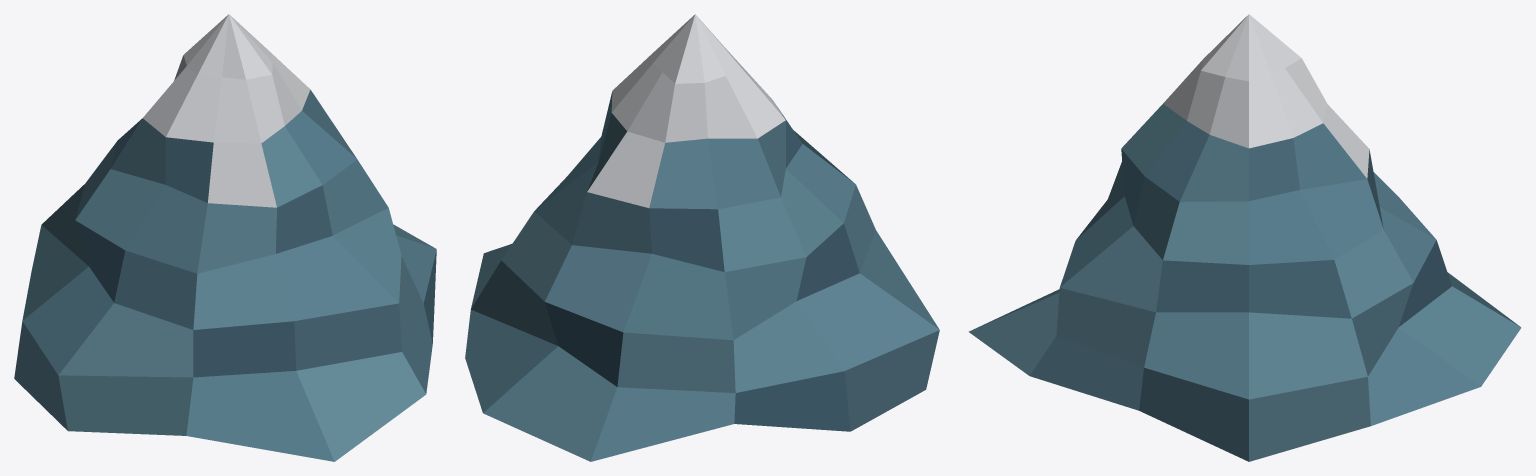
The model's file is game_bits.glb.
3 renders of one model, left to right at view 1: azimuth 30°, elevation 25°; view 2: azimuth 150°, elevation 25°; view 3: azimuth 270°, elevation 25°, orthographic. The views are drawn at different scales.
Visible parts, largest first — view 1: DYN_mountain; view 2: DYN_mountain; view 3: DYN_mountain.
Part boxes in pixels (x1,y1,x2,y2): DYN_mountain: [14, 14, 436, 461]; DYN_mountain: [465, 14, 939, 461]; DYN_mountain: [968, 14, 1521, 461].
Bounding box in the file's own units: 90.78 × 73.42 × 106.
